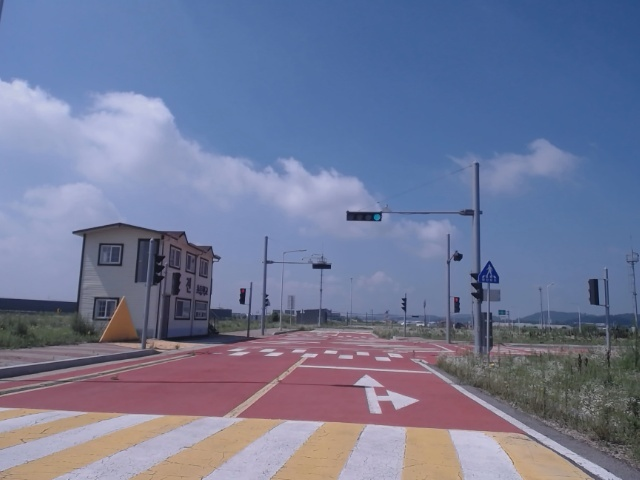straight_green_4: (347, 213, 383, 222)
